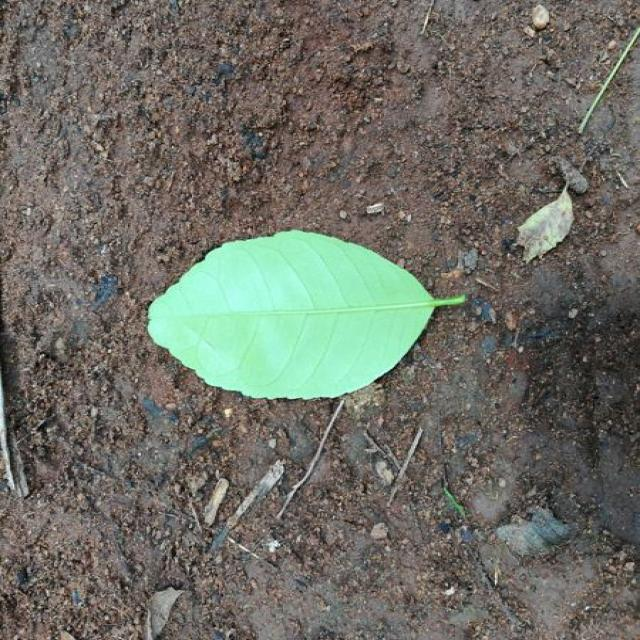Citrus bacterial spot: (148, 230, 467, 398)
